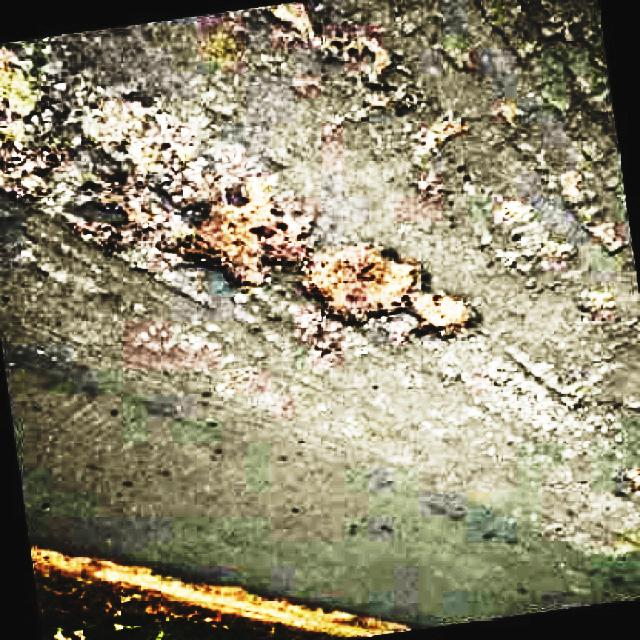pothole: (72, 92, 297, 278), (298, 236, 478, 336), (0, 33, 72, 204), (269, 5, 402, 90), (564, 177, 624, 263)
